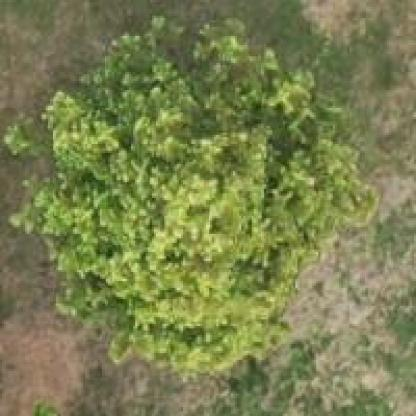Deciduous Tree: (12, 15, 380, 352)
